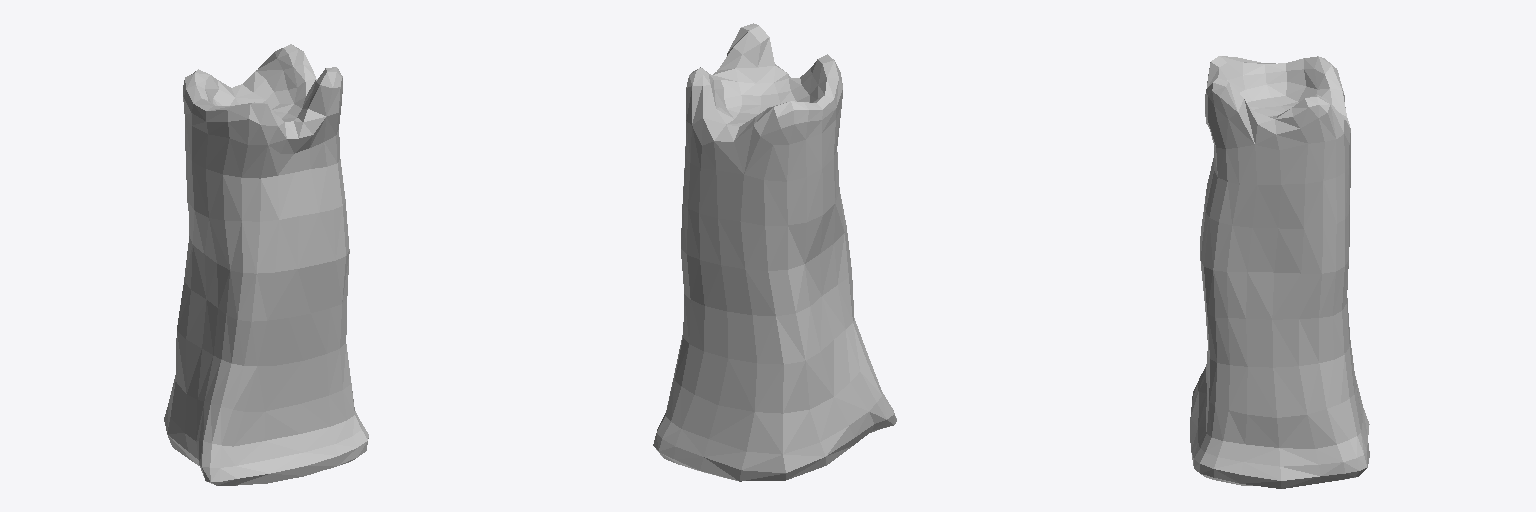
The model's file is Tree-1.obj.
The picture shows the model from 3 angles: view 1: azimuth 30°, elevation 25°; view 2: azimuth 150°, elevation 25°; view 3: azimuth 270°, elevation 25°; orthographic projection.
Visible parts, largest first — view 1: Group11663; view 2: Group11663; view 3: Group11663.
Boxes of the visible parts, x1=… form: Group11663: x1=164, y1=44, x2=368, y2=485; Group11663: x1=653, y1=23, x2=896, y2=481; Group11663: x1=1190, y1=56, x2=1369, y2=488.
Bounding box in the file's own units: 0.5343 × 1.12 × 0.4622.